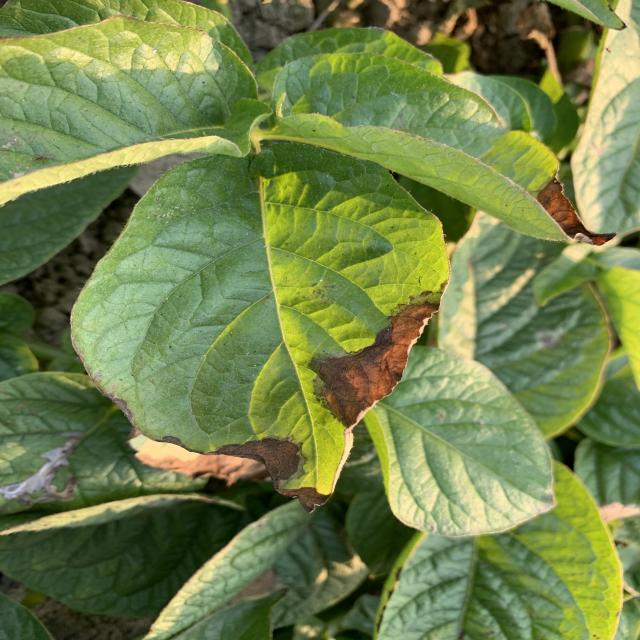lateblight: (310, 302, 438, 428), (128, 431, 328, 511), (537, 176, 615, 245)
